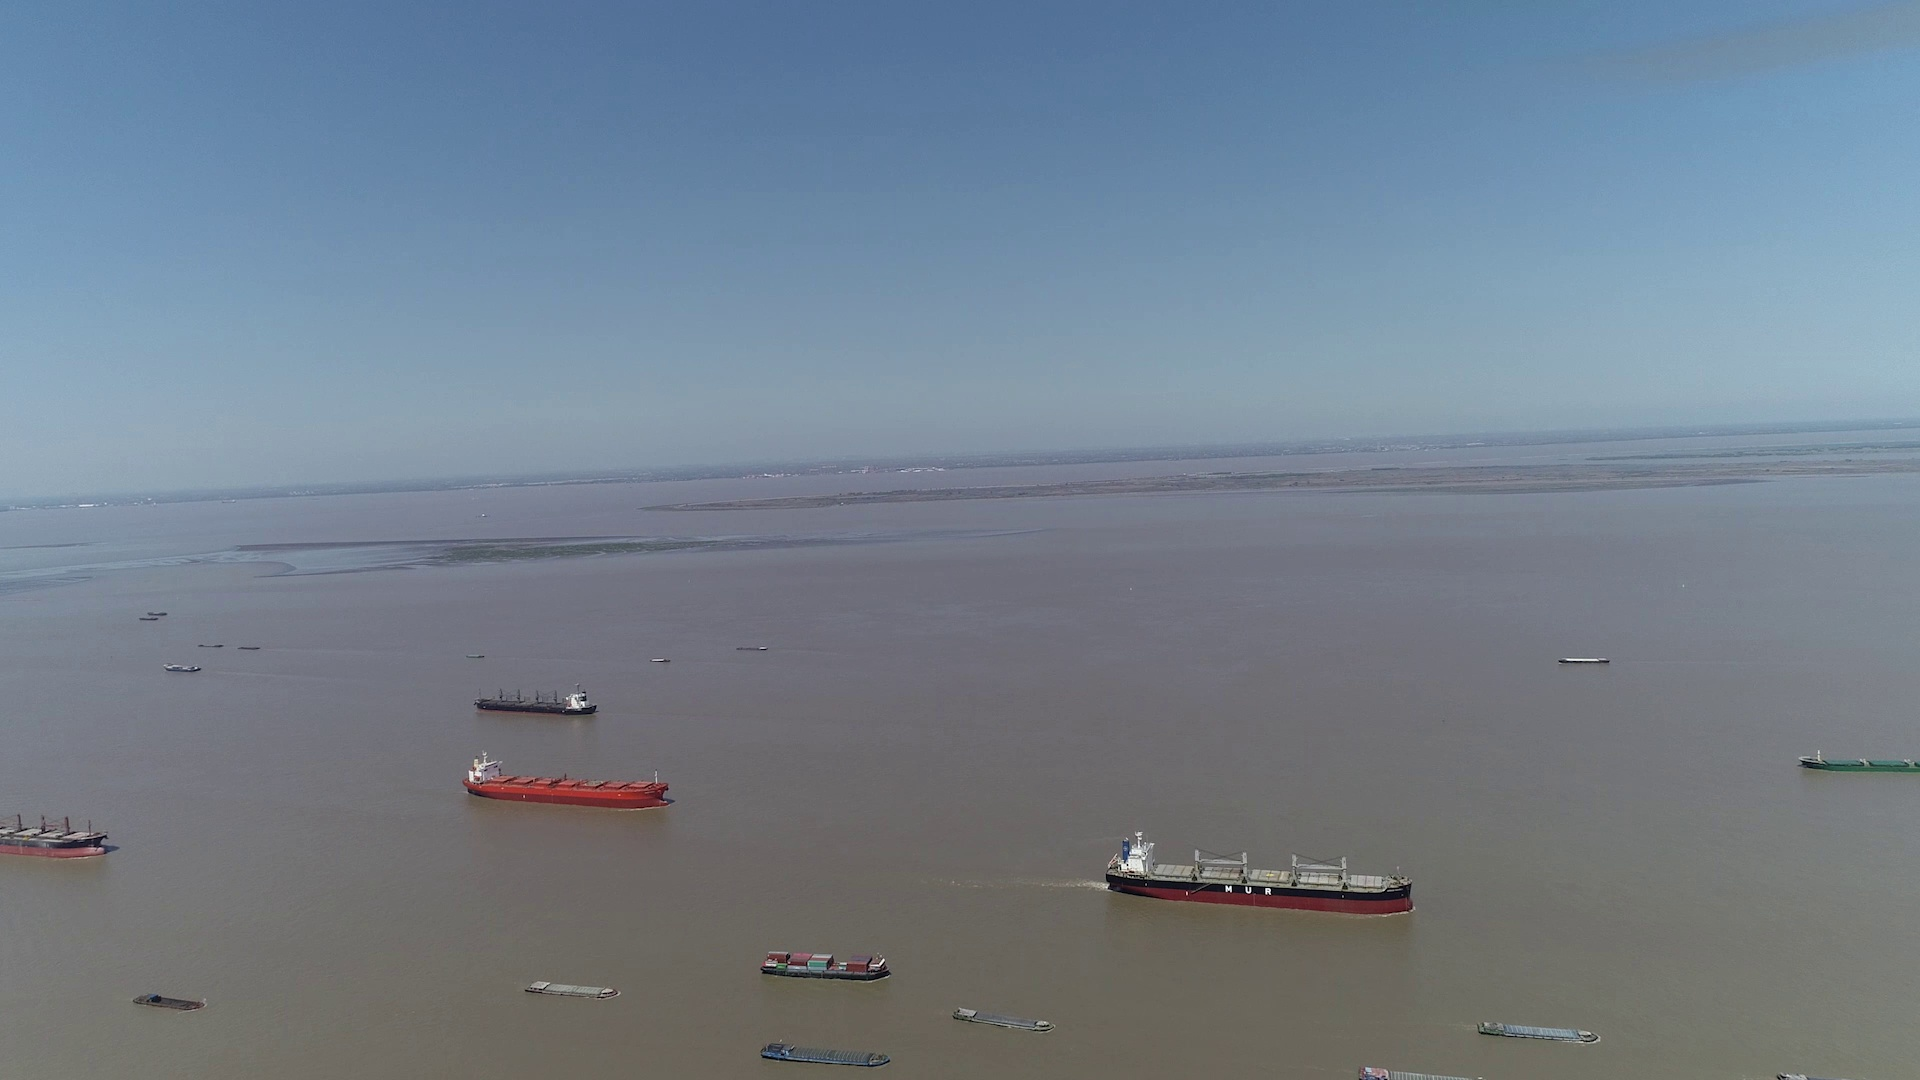ship: (1108, 829, 1416, 914), (463, 748, 671, 808), (3, 800, 109, 858), (758, 948, 891, 982), (475, 684, 597, 716), (757, 1043, 893, 1068), (1476, 1021, 1597, 1044), (951, 1005, 1052, 1033), (1797, 752, 1920, 774), (524, 978, 618, 1000), (132, 993, 206, 1011), (1557, 655, 1610, 663), (166, 663, 200, 673)
